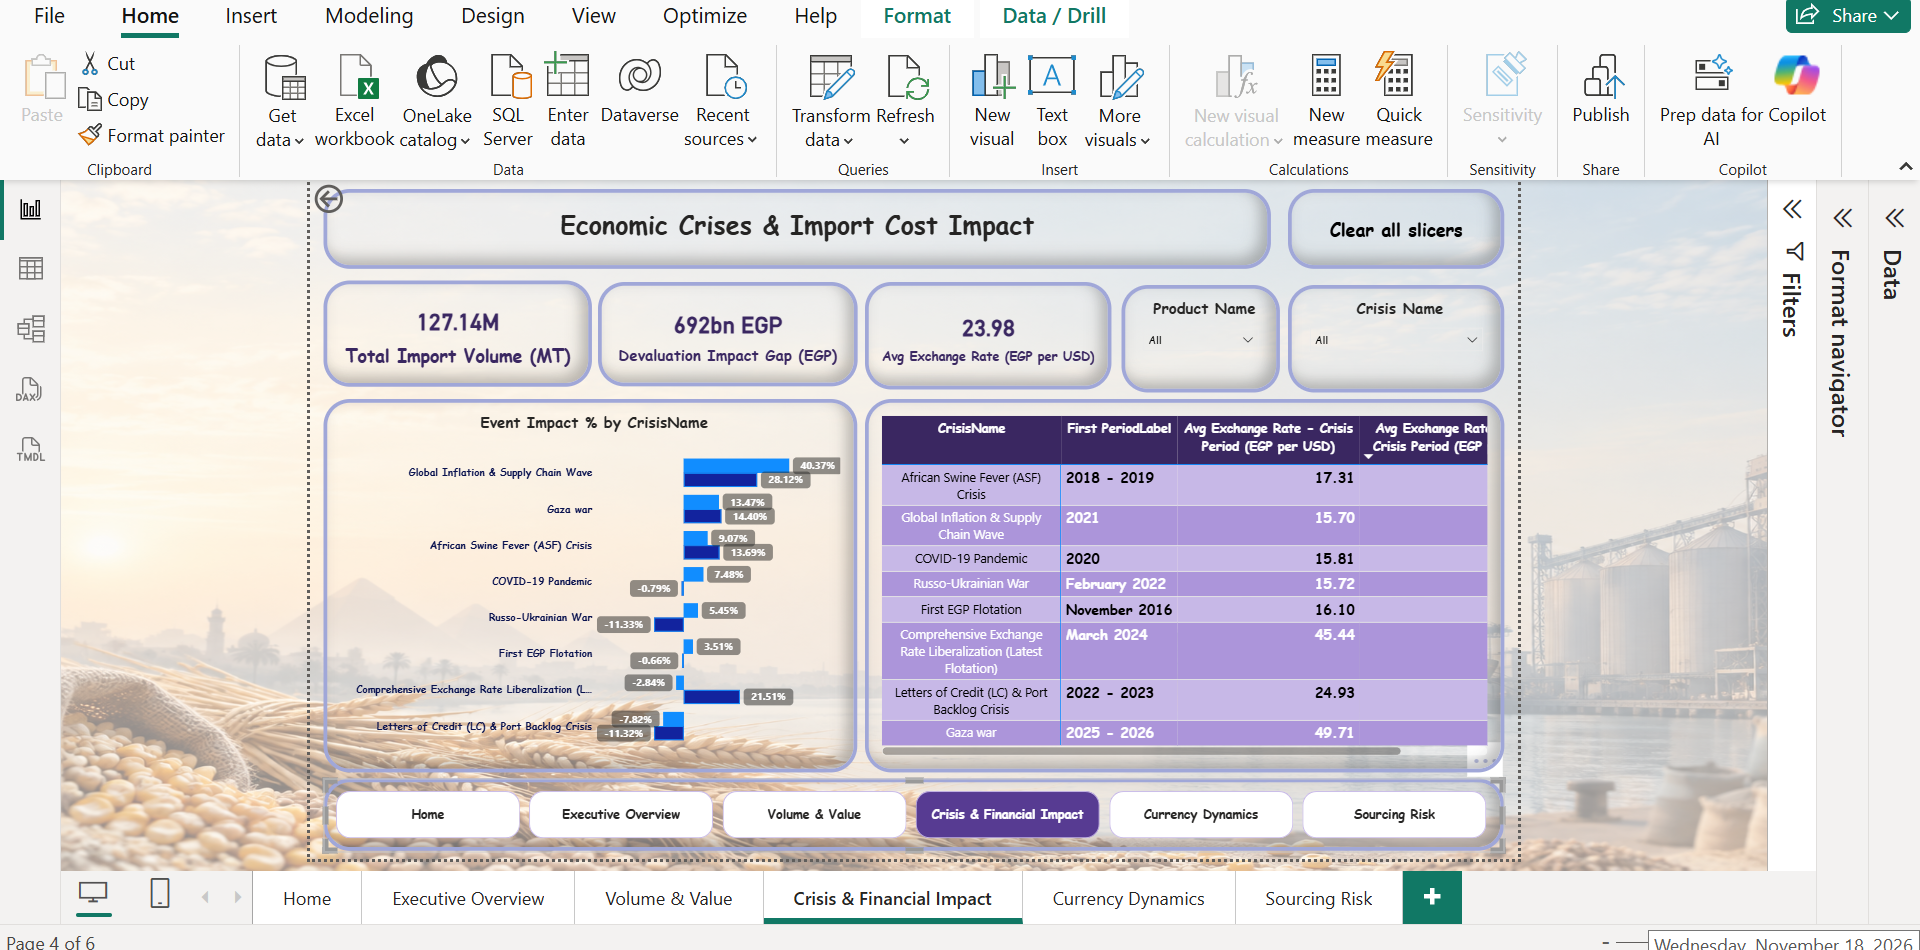

Layout of this report page (visuals, bound fields, positions):
{"tool":"powerbi","page":{"name":"Crisis & Financial Impact","canvas":[1280,720],"ordinal":3},"visuals":[{"type":"textbox","box":[14.6,8.8,1004.7,84.6],"z":0},{"type":"actionButton","box":[1036.8,8.8,229.5,84.6],"z":1000},{"type":"pageNavigator","box":[14.6,635.1,1251.8,76.8],"z":2000},{"type":"card","fields":{"Values":["_Measures.Total Import Volume (MT)"]},"box":[14.6,106,285,112.8],"z":3000},{"type":"card","fields":{"Values":["_Measures.Devaluation Impact Gap (EGP)"]},"box":[305.4,108,275.3,110.9],"z":4000},{"type":"card","fields":{"Values":["_Measures.Avg Exchange Rate (EGP per USD)"]},"box":[588.4,108,261.6,113.8],"z":5000},{"type":"clusteredBarChart","title":"Event Impact %  by CrisisName","fields":{"Category":["DimCrisis.CrisisName"],"Y":["_Measures.Event Impact % - Import Value (Crisis Year vs Prior Year)","_Measures.Event Impact % - Import Volume (Crisis Year vs Prior Year)"]},"box":[14.6,232.5,566.1,395.9],"z":6000},{"type":"slicer","title":"Crisis Name","fields":{"Values":["DimYear.Year"]},"box":[1036.8,110.9,229.5,113.8],"z":7000},{"type":"slicer","title":"Product Name","fields":{"Values":["DimProduct.ProductShortName"]},"box":[860.8,110.9,168.3,113.8],"z":8000},{"type":"pivotTable","fields":{"Rows":["DimCrisis.CrisisName"],"Values":["Min(DimCrisis.PeriodLabel)","_Measures.Avg Exchange Rate - Crisis Period (EGP per USD)","_Measures.Avg Exchange Rate - Non-Crisis Period (EGP per USD)"]},"box":[588.4,232.5,677.9,395.9],"z":9000},{"type":"actionButton","box":[0,0,100,40],"z":10000}]}

Visuals, with their boxes on the page's 1280x720 design canvas (x1, y1, x2, y2). These are canvas units, not pixel positions in the 1920x950 screenshot, which may show the page scaled, cropped or inside an application window:
textbox: (x1=15, y1=9, x2=1019, y2=93)
actionButton: (x1=1037, y1=9, x2=1266, y2=93)
pageNavigator: (x1=15, y1=635, x2=1266, y2=712)
card - _Measures.Total Import Volume (MT): (x1=15, y1=106, x2=300, y2=219)
card - _Measures.Devaluation Impact Gap (EGP): (x1=305, y1=108, x2=581, y2=219)
card - _Measures.Avg Exchange Rate (EGP per USD): (x1=588, y1=108, x2=850, y2=222)
"Event Impact %  by CrisisName" clusteredBarChart: (x1=15, y1=232, x2=581, y2=628)
"Crisis Name" slicer: (x1=1037, y1=111, x2=1266, y2=225)
"Product Name" slicer: (x1=861, y1=111, x2=1029, y2=225)
pivotTable - DimCrisis.CrisisName x Min(DimCrisis.PeriodLabel): (x1=588, y1=232, x2=1266, y2=628)
actionButton: (x1=0, y1=0, x2=100, y2=40)
